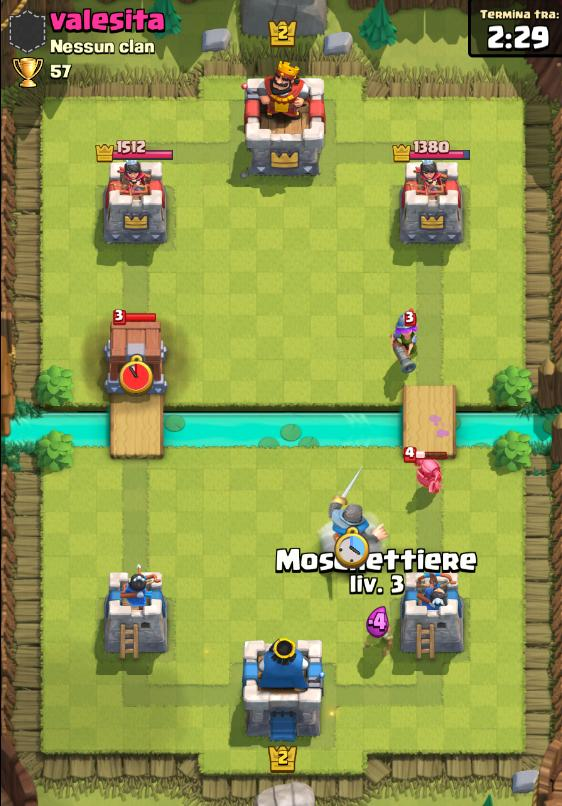ally_archer: (366, 603, 393, 643)
ally_knight: (324, 481, 389, 566)
enemy_goblin_cage: (110, 317, 166, 394)
enemy_mini_pekka: (409, 450, 446, 503)
enemy_musketeer: (389, 309, 425, 374)
